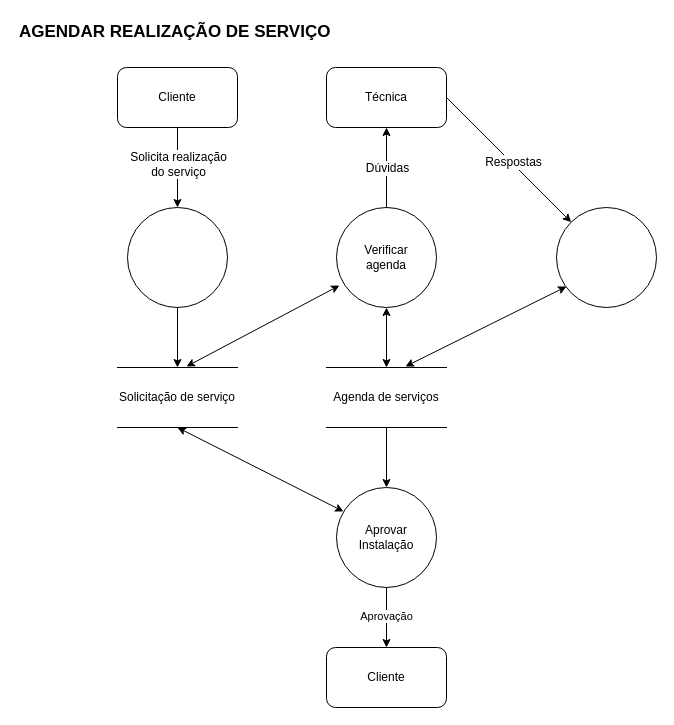
Some shapes in this 674 by 725 pixel diagram are drawn without their labels. Here are the shapes that lost their labels. From the top down, the centre of each, then its label:
At [177,257]: "Agendar instalação".
At [606,257]: "Registrar respostas".
